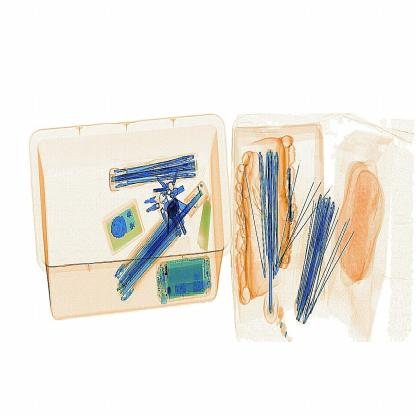knife: (288, 162, 297, 227)
